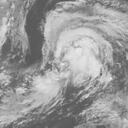cyclone: (24, 2, 123, 110)
